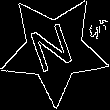N_S: (28, 19, 81, 81)
